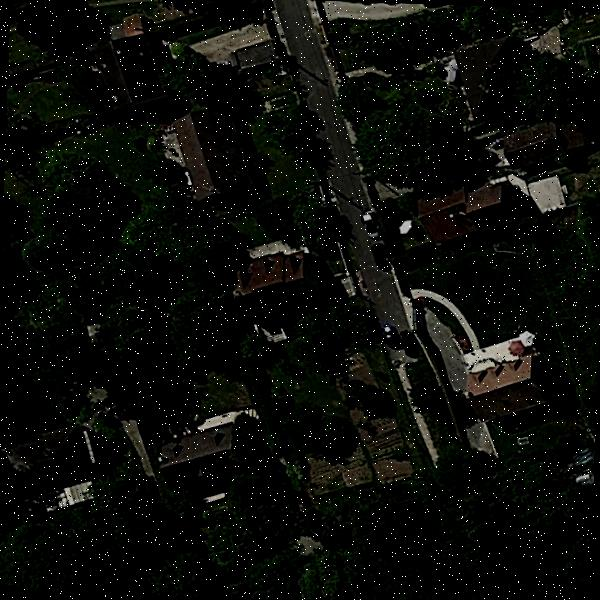Buildings: (416, 180, 512, 242), (171, 116, 252, 189), (236, 253, 318, 322), (468, 349, 550, 417), (95, 24, 163, 102), (163, 433, 243, 493), (15, 430, 89, 494), (462, 36, 522, 110), (500, 126, 568, 163)
